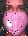with_mask: (2, 2, 28, 36)
